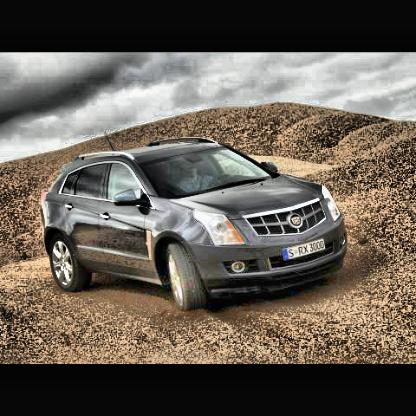Cadillac SRX SUV 2012: (38, 135, 351, 313)
